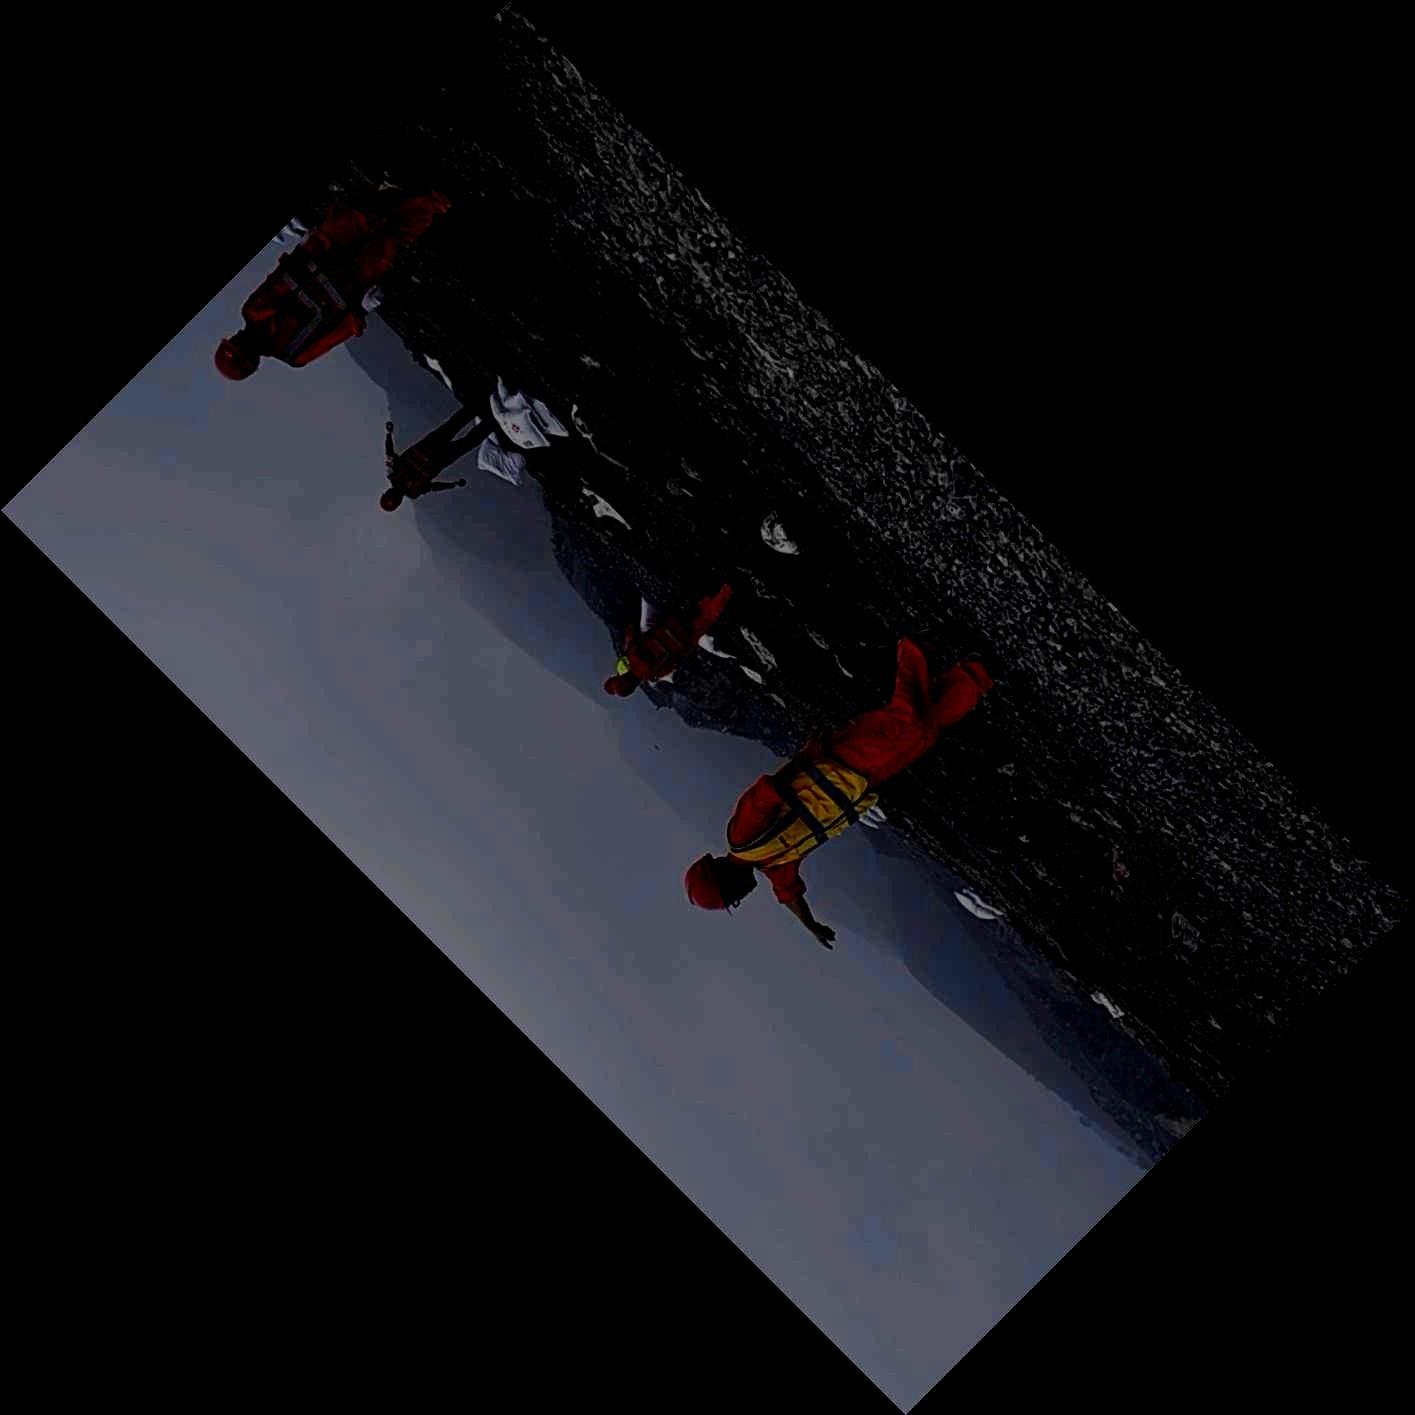helmet: (683, 853, 758, 912), (213, 327, 262, 382), (613, 674, 640, 698), (380, 485, 404, 512), (603, 676, 617, 697)
